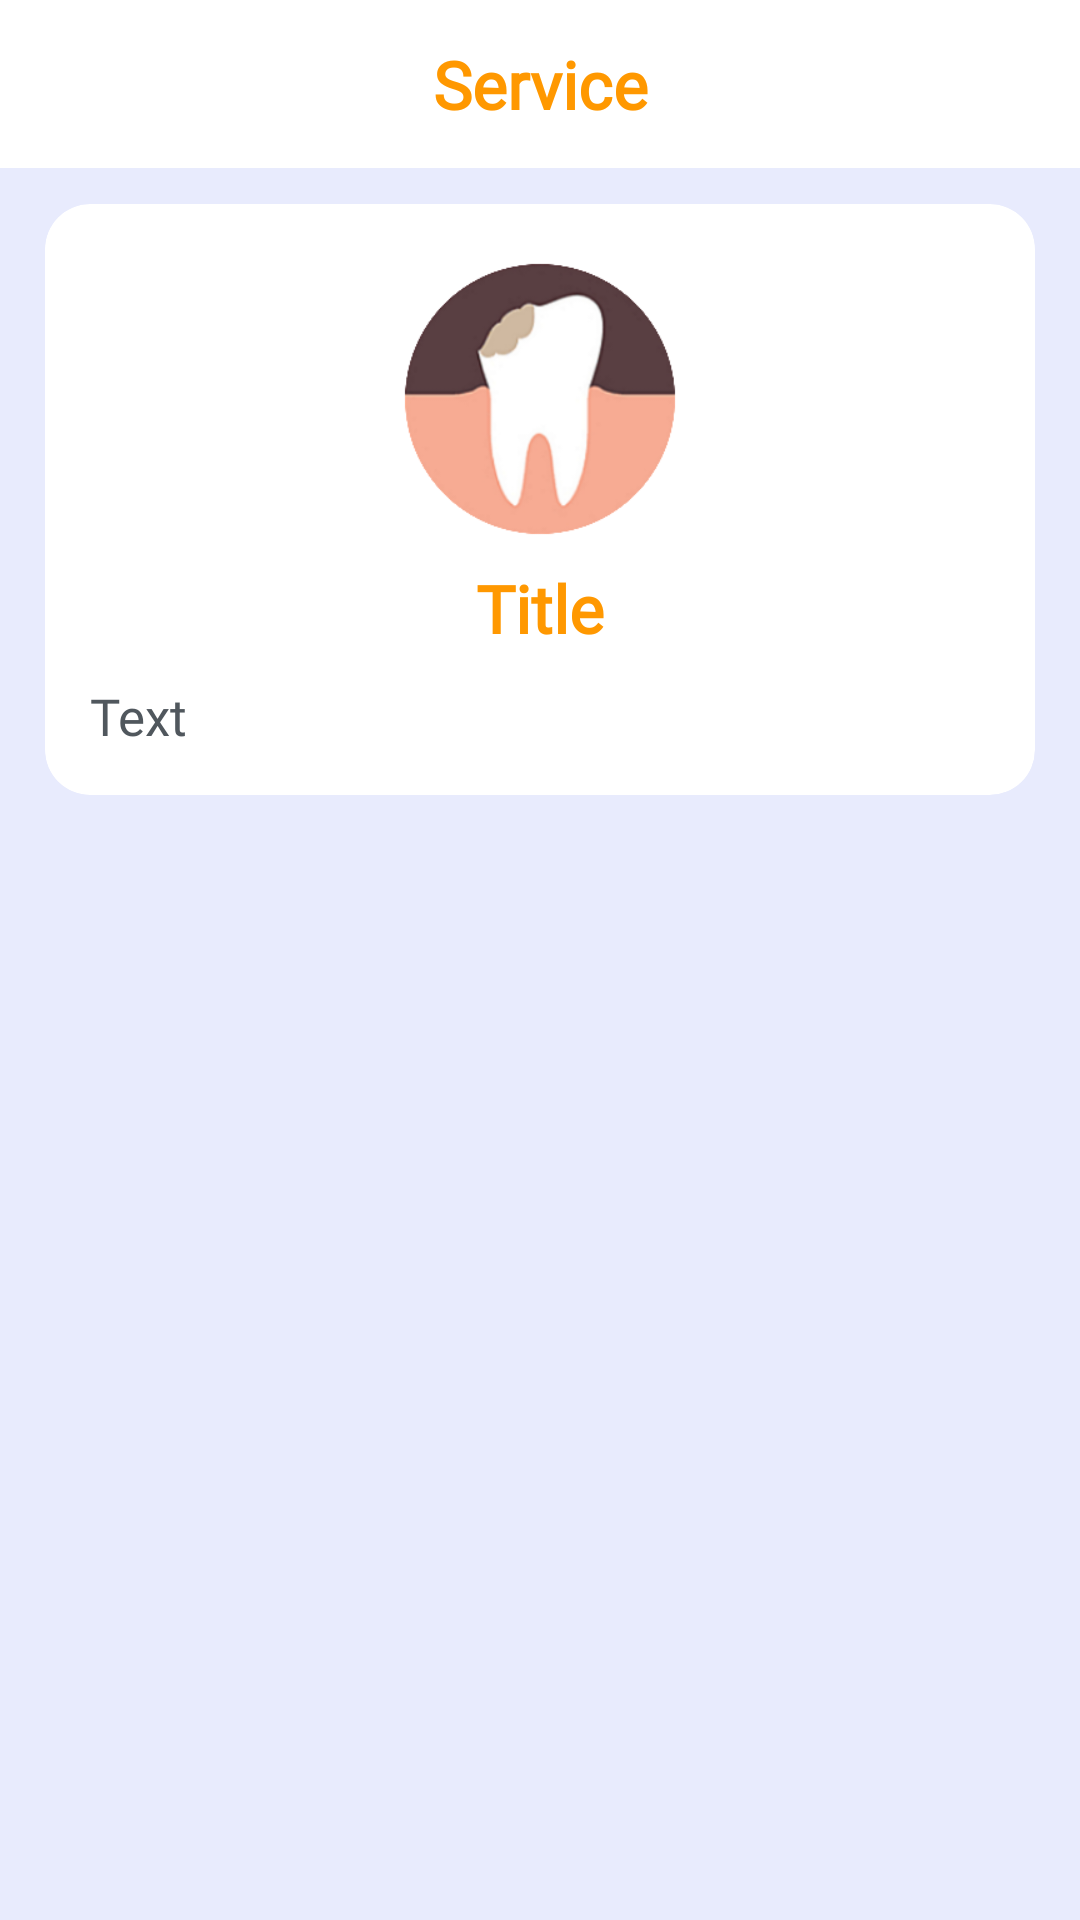

Screen size 1080w x 1920h. Icon name, then its center in pixels as point (x, y):
dental: point (540, 399)
